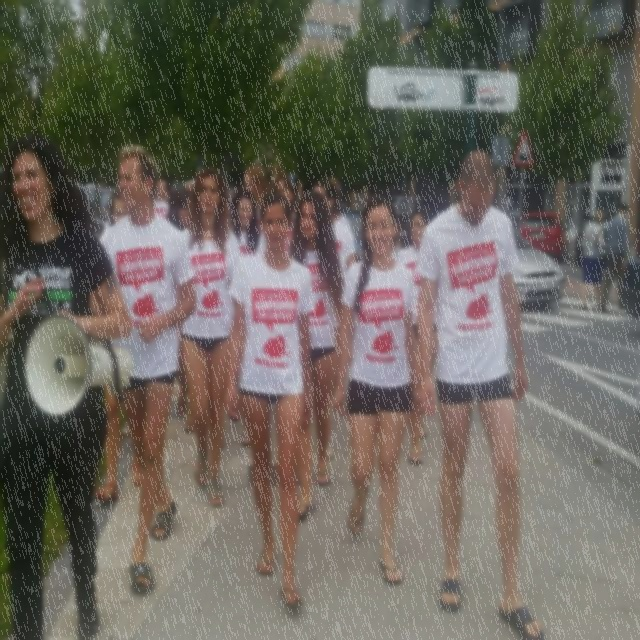pessoa: (0, 129, 135, 639), (414, 143, 548, 640), (89, 144, 198, 594), (222, 188, 315, 613), (330, 191, 424, 591), (278, 184, 356, 527), (176, 166, 244, 506), (91, 187, 143, 502), (313, 174, 357, 460), (392, 204, 440, 466), (228, 185, 268, 448), (168, 188, 208, 434), (256, 170, 304, 261), (598, 200, 630, 314), (578, 208, 610, 311), (240, 164, 276, 236), (328, 174, 352, 232), (151, 177, 170, 221), (156, 192, 178, 226), (219, 190, 239, 222), (117, 411, 135, 444), (95, 211, 112, 233), (184, 178, 194, 192)
